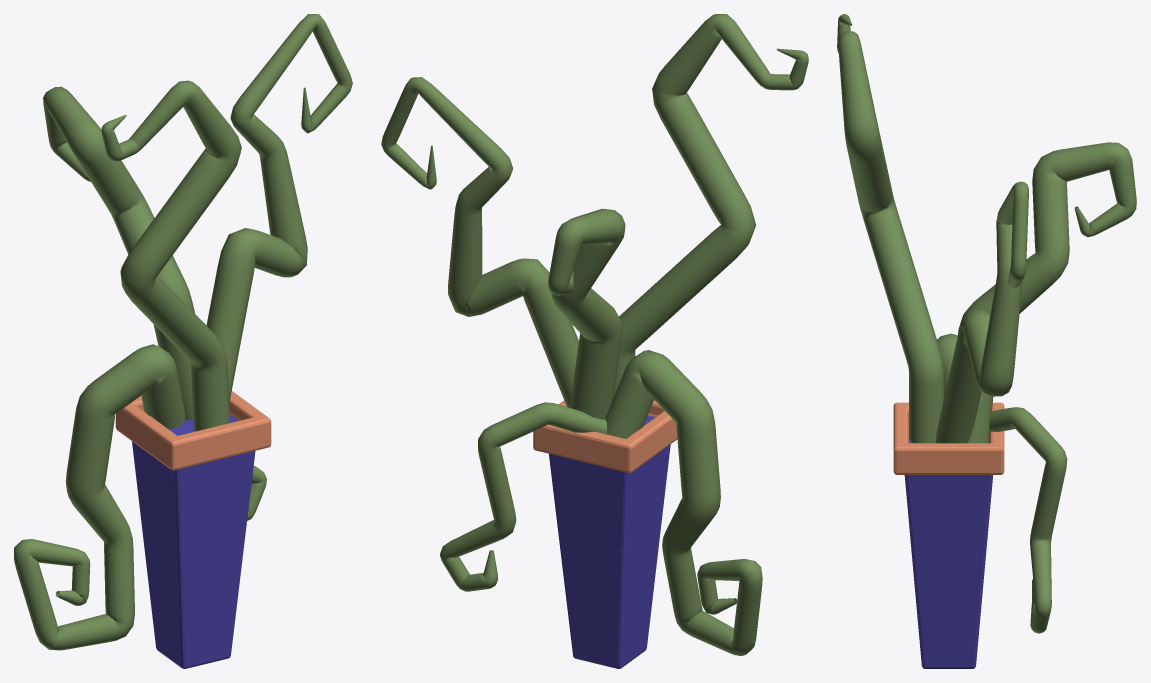
File: luigi_plant.fbx
3 renders of one model, left to right at view 1: azimuth 30°, elevation 25°; view 2: azimuth 150°, elevation 25°; view 3: azimuth 270°, elevation 25°, orthographic. The views are drawn at different scales.
Visible parts, largest first — view 1: NurbsPath.011; view 2: NurbsPath.011; view 3: NurbsPath.011.
Boxes of the visible parts, box(x1,y1,x2,y2) form: NurbsPath.011: box(14, 14, 352, 668); NurbsPath.011: box(381, 14, 808, 668); NurbsPath.011: box(837, 14, 1136, 668).
Size of the model in its own units: 103 by 171 by 77.8.
